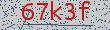3: (64, 1, 79, 25)
6: (17, 1, 36, 27)
7: (36, 1, 49, 29)
f: (78, 1, 94, 26)
k: (49, 1, 64, 25)
